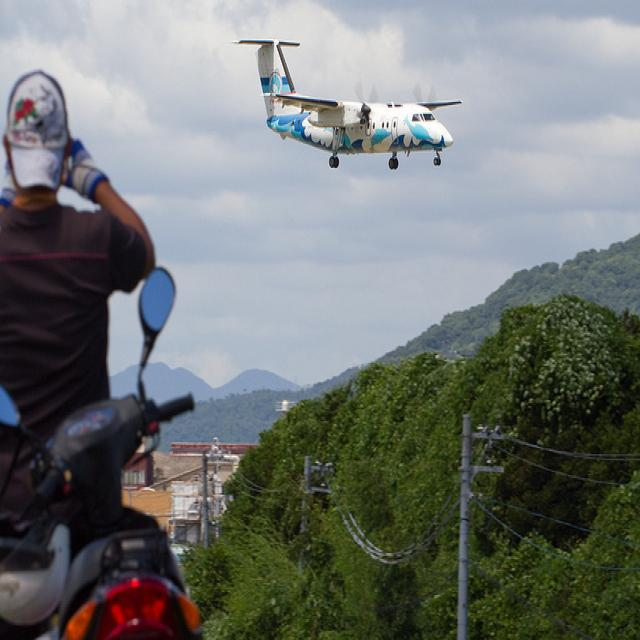motor: (0, 267, 206, 630)
